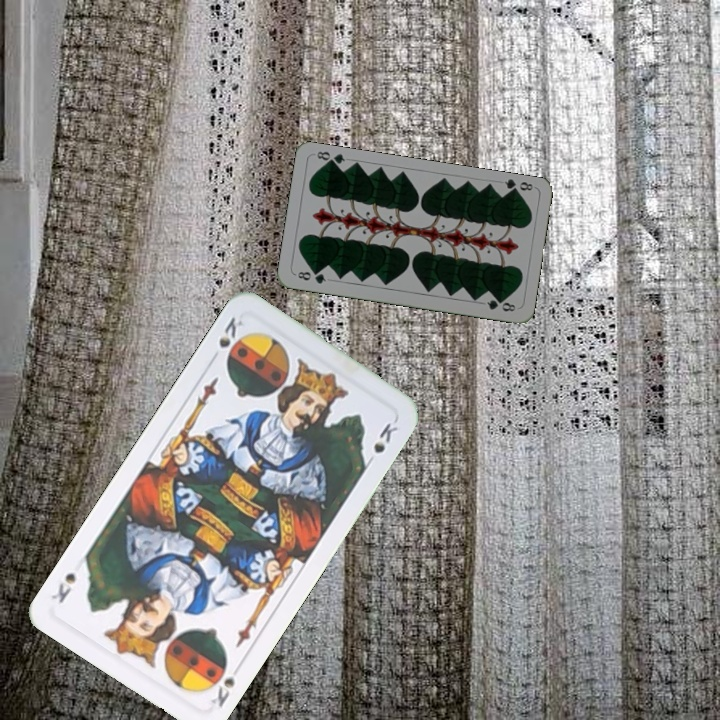G8: (500, 175, 535, 197), (293, 267, 329, 286)
SK: (203, 655, 242, 710), (214, 312, 246, 351)
